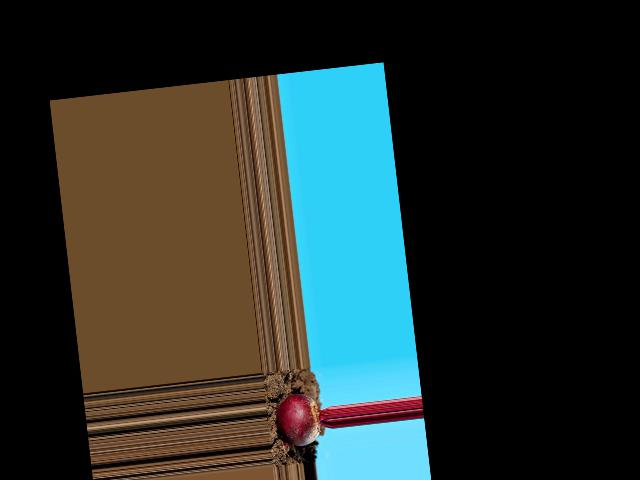beet: (273, 390, 333, 449)
